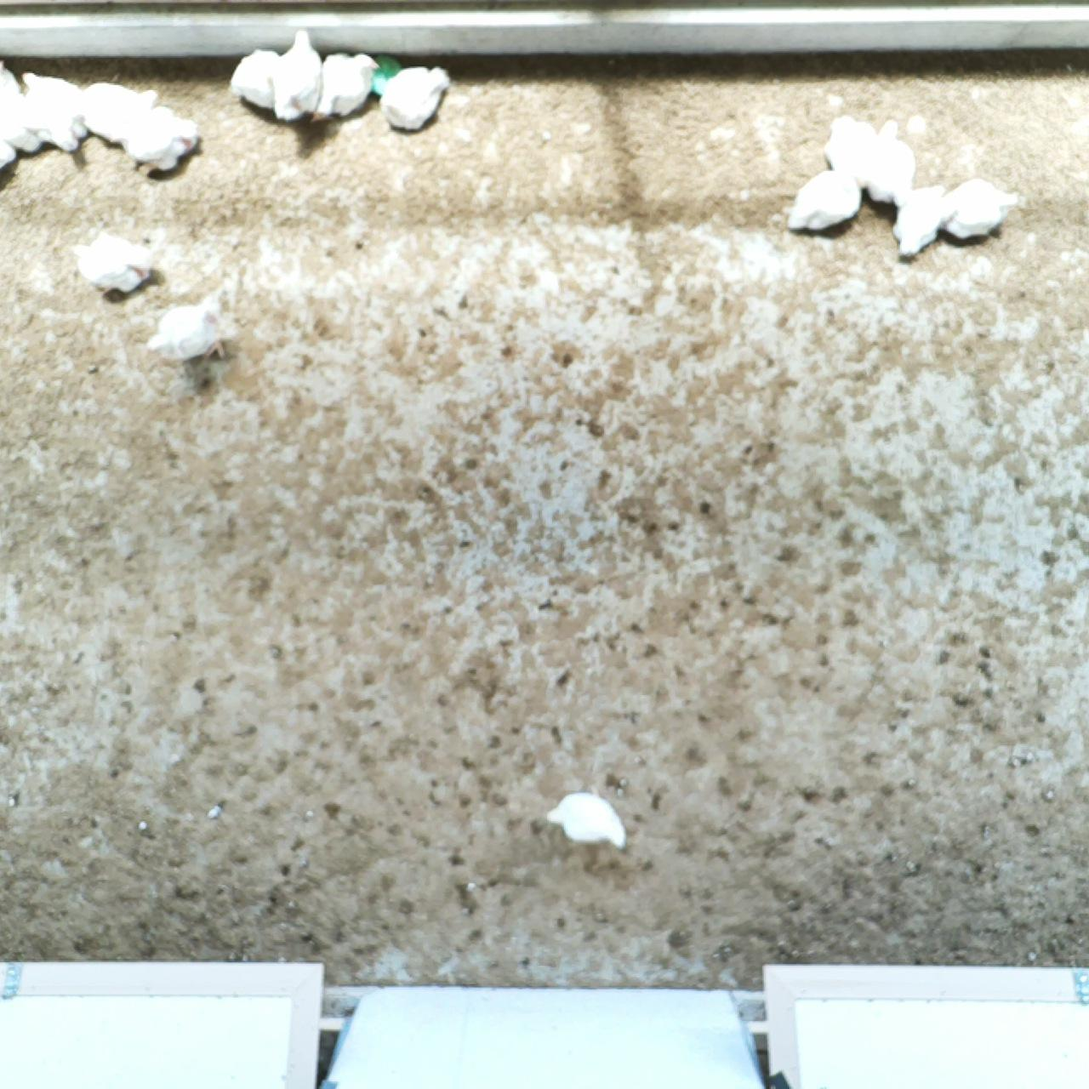chicken: (16, 70, 91, 152), (150, 294, 232, 362), (69, 230, 153, 294), (941, 177, 1022, 240), (77, 81, 158, 144), (269, 29, 323, 120), (125, 107, 200, 172), (786, 168, 861, 230), (547, 793, 628, 850), (313, 50, 377, 121), (382, 66, 451, 131), (869, 117, 918, 204), (890, 186, 949, 258), (822, 113, 879, 186), (231, 48, 282, 110), (1, 61, 33, 144), (0, 141, 22, 175)
